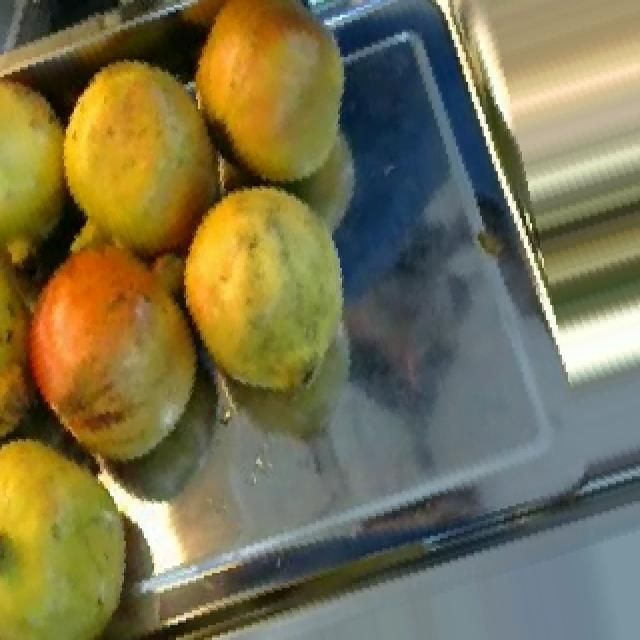fruit: (14, 221, 224, 496), (32, 35, 254, 283), (162, 159, 366, 417), (174, 0, 372, 211)
